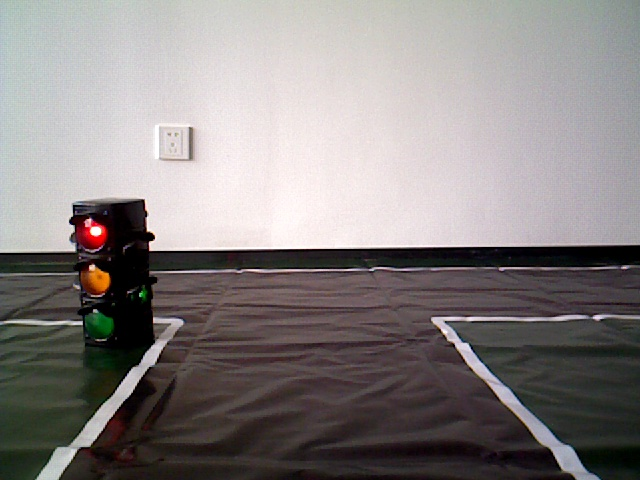red: (74, 211, 150, 356)
